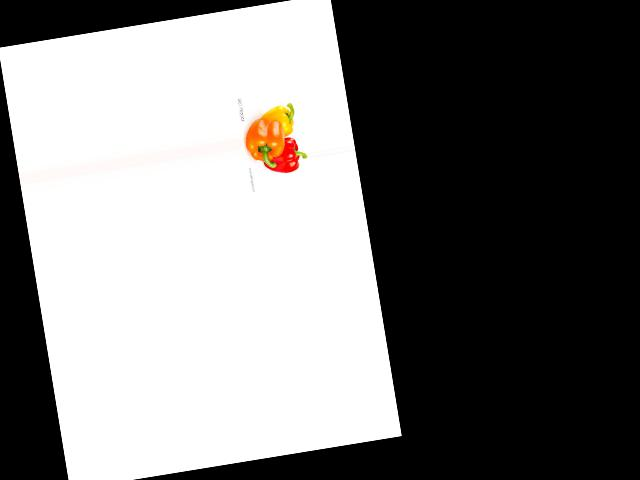bell_pepper: (258, 100, 300, 141)
